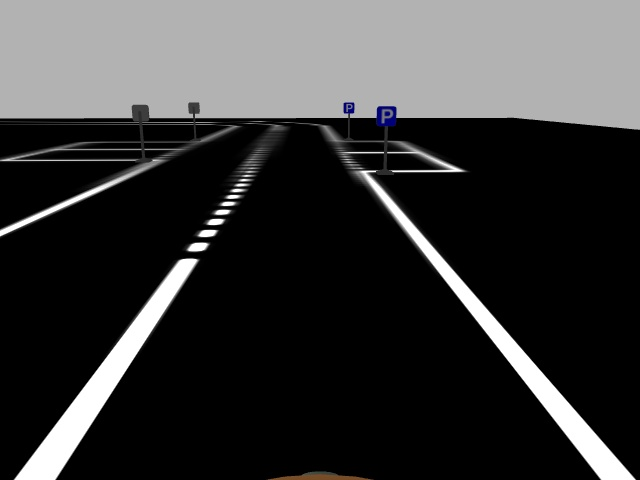parking: (376, 104, 397, 126), (342, 101, 354, 113)
